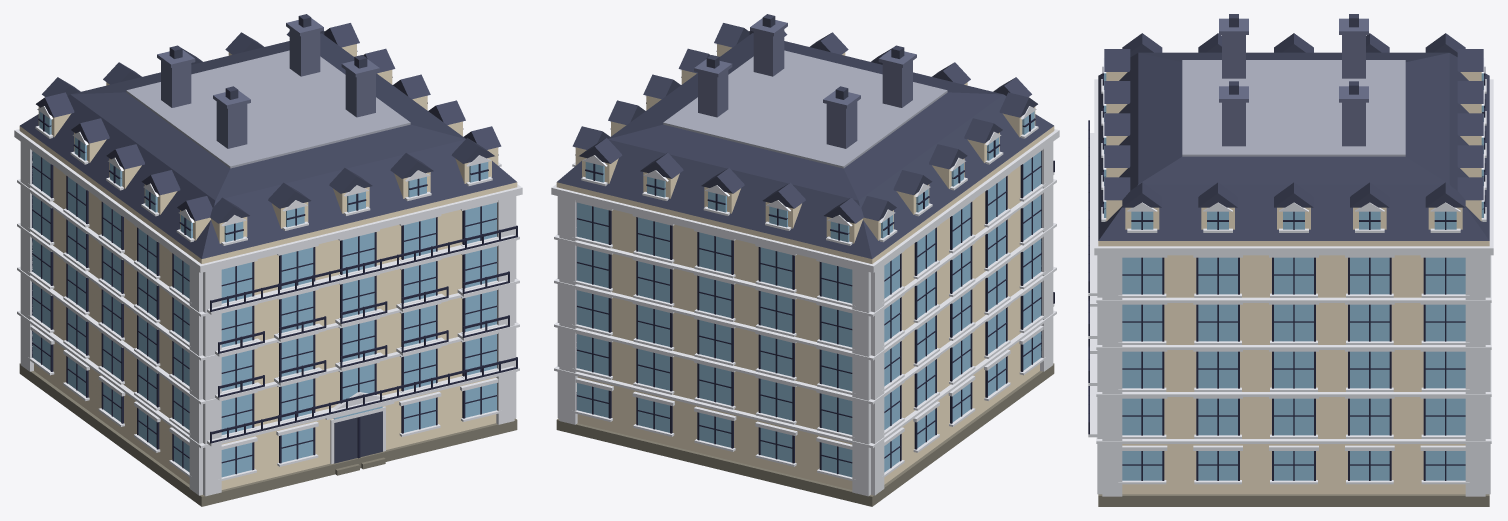
File: house-2x2-5f-haussmann-a.glb
The picture shows the model from 3 angles, left to right: view 1: azimuth 30°, elevation 25°; view 2: azimuth 150°, elevation 25°; view 3: azimuth 270°, elevation 25°; orthographic projection. The views are drawn at different scales.
Visible parts, largest first — view 1: house-2x2-5f-haussmann-a; view 2: house-2x2-5f-haussmann-a; view 3: house-2x2-5f-haussmann-a.
Boxes of the visible parts, bbox=[...] form: house-2x2-5f-haussmann-a: bbox=[14, 14, 522, 506]; house-2x2-5f-haussmann-a: bbox=[551, 14, 1059, 506]; house-2x2-5f-haussmann-a: bbox=[1088, 14, 1493, 506].
Bounding box in the file's own units: 2 × 2.07 × 2.03.
Materials: 1 (1 with a texture image).
